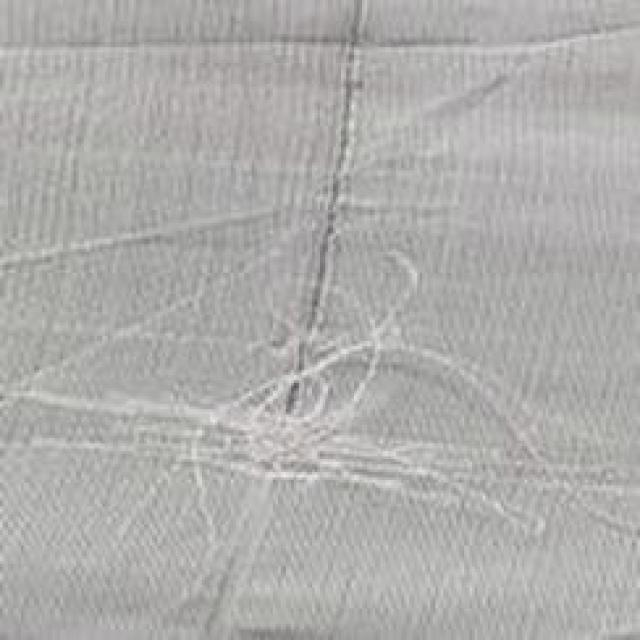stains: (0, 12, 624, 620)
